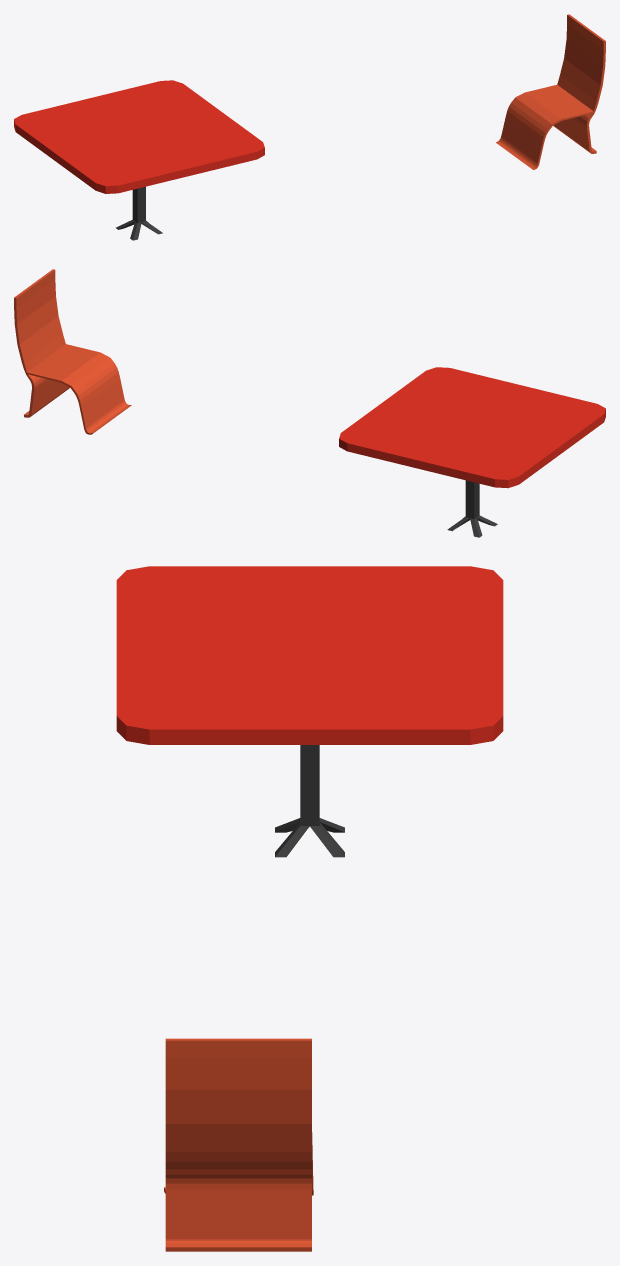
File: FBX_Table&Chair.fbx
3 renders of one model, top to bottom at view 1: azimuth 30°, elevation 25°; view 2: azimuth 150°, elevation 25°; view 3: azimuth 270°, elevation 25°, orthographic. The views are drawn at different scales.
Parts seen in each view (by area): view 1: Table, Chair; view 2: Table, Chair; view 3: Table, Chair.
Boxes of the visible parts, left/top/right/bottom form: Table: left=14, top=80, right=264, bottom=240; Chair: left=496, top=14, right=605, bottom=169; Table: left=339, top=367, right=605, bottom=537; Chair: left=14, top=269, right=131, bottom=434; Table: left=116, top=566, right=503, bottom=857; Chair: left=164, top=1038, right=313, bottom=1251.
Size of the model in its own units: 4.3 by 0.8906 by 1.4.
